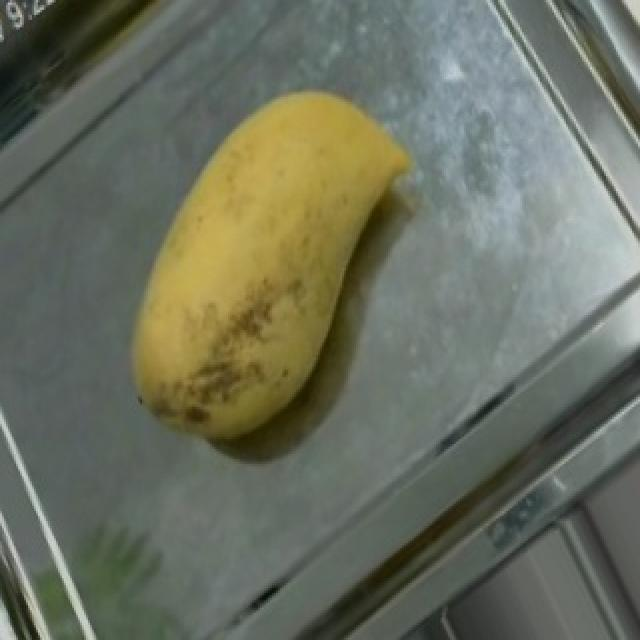fruit: (110, 32, 472, 417)
